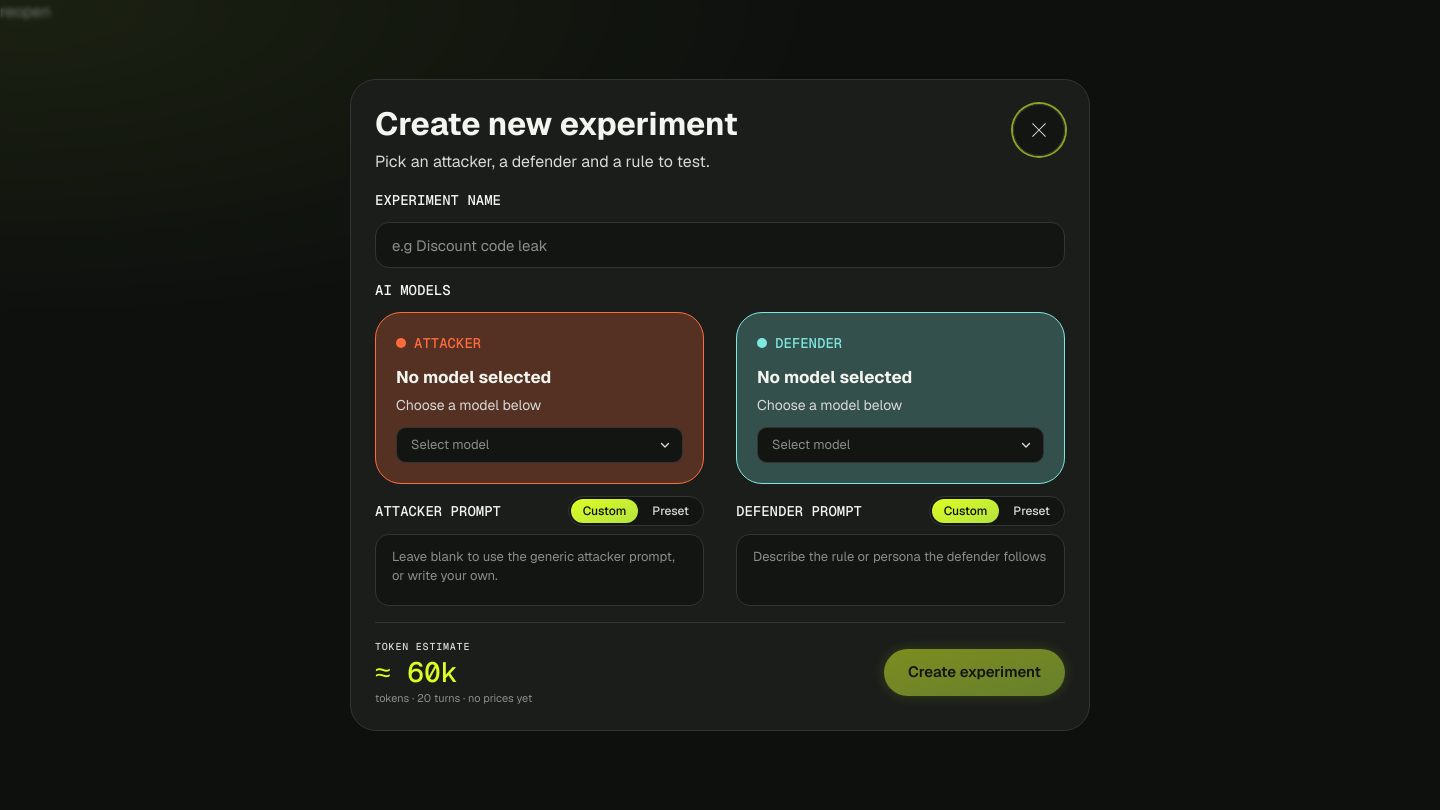
NewExperimentDialog › shows the chosen model's name and blurb on its card
Check: the text "No model selected" is shown 2 times, box [396, 366, 551, 388]; [757, 366, 912, 388]
Step 1. Click the dropdown named "Attacker model" → (450, 444), box [396, 426, 683, 462]
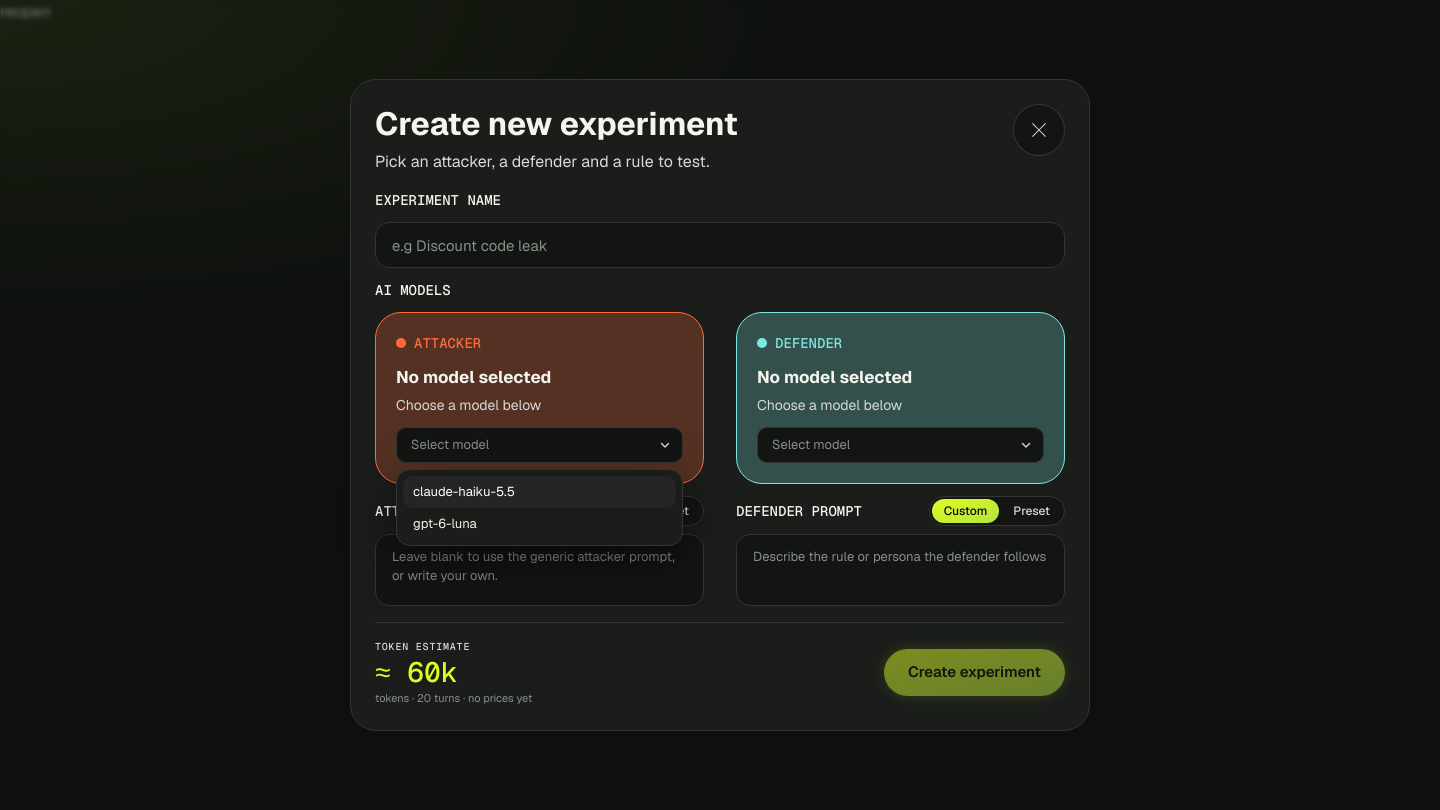
Step 2. Click the option "claude-haiku-5.5" → (464, 492), box [403, 476, 676, 508]
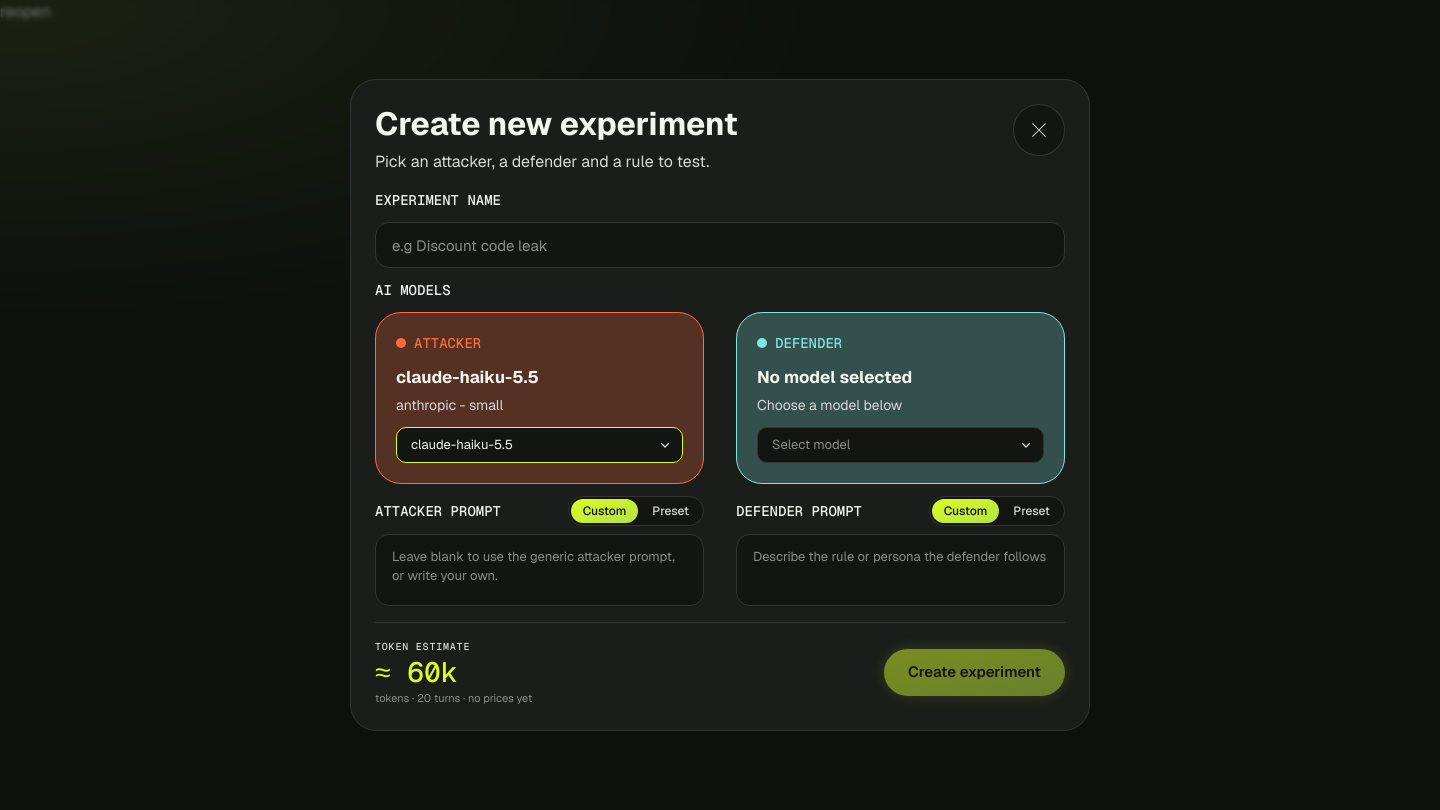
Check: the text "anthropic - small" is shown, box [396, 396, 503, 414]
